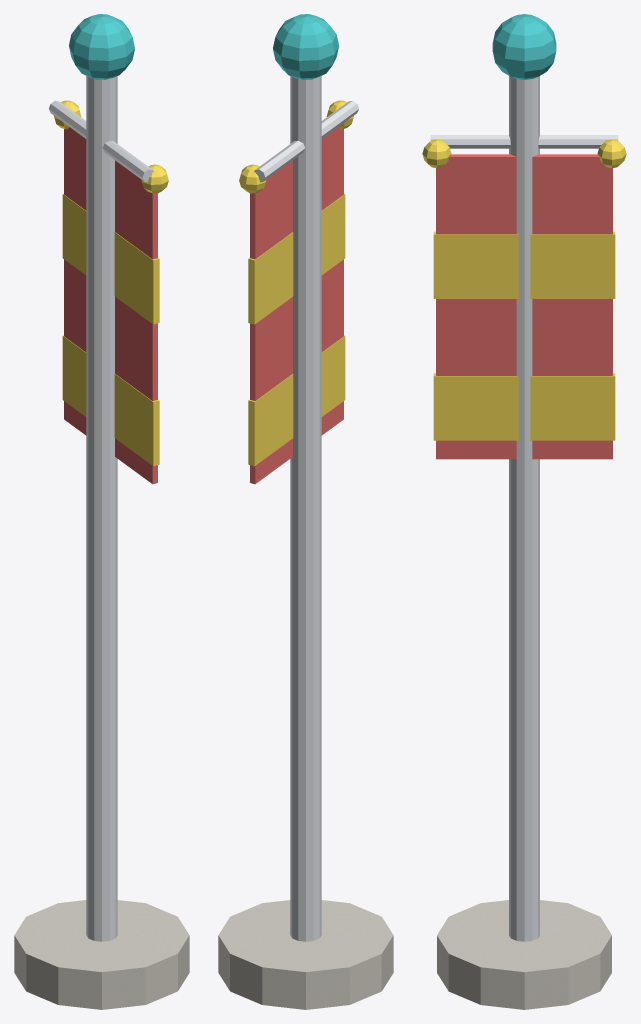
The model's file is theme-park-rides-and-coasters-theme-park-rides-and-coa-1ad3422d__28708.glb.
3 renders of one model, left to right at view 1: azimuth 30°, elevation 25°; view 2: azimuth 150°, elevation 25°; view 3: azimuth 270°, elevation 25°, orthographic.
Visible parts, largest first — view 1: theme-park-rides-and-coasters-banner-flag-pole; view 2: theme-park-rides-and-coasters-banner-flag-pole; view 3: theme-park-rides-and-coasters-banner-flag-pole.
Boxes of the visible parts, x1,y1,x2,y2 form: theme-park-rides-and-coasters-banner-flag-pole: (14, 14, 189, 1009); theme-park-rides-and-coasters-banner-flag-pole: (218, 14, 393, 1009); theme-park-rides-and-coasters-banner-flag-pole: (422, 14, 626, 1009).
Size of the model in its own units: 0.84 by 5.06 by 0.9799.
5 materials, 1 textured.
